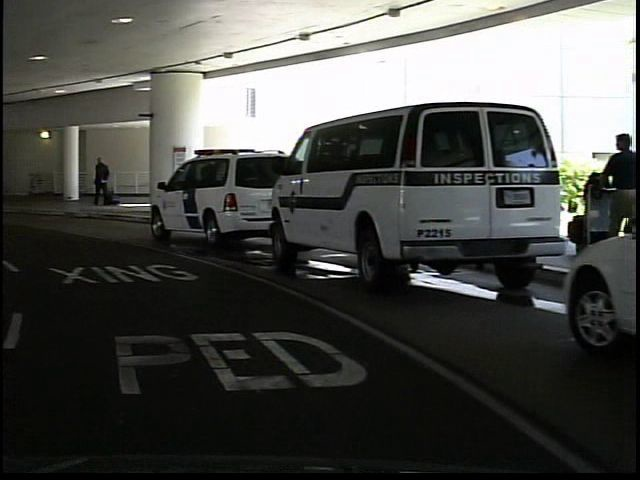person: (594, 128, 634, 266), (88, 152, 112, 212)
